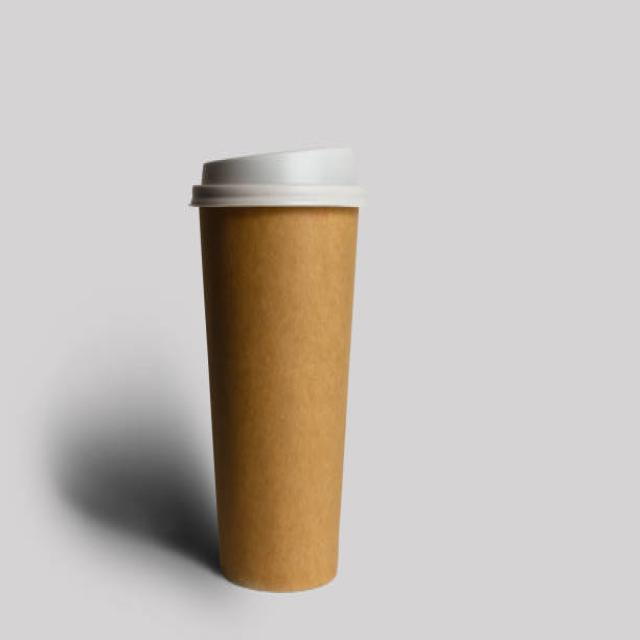cup: (189, 141, 370, 599)
